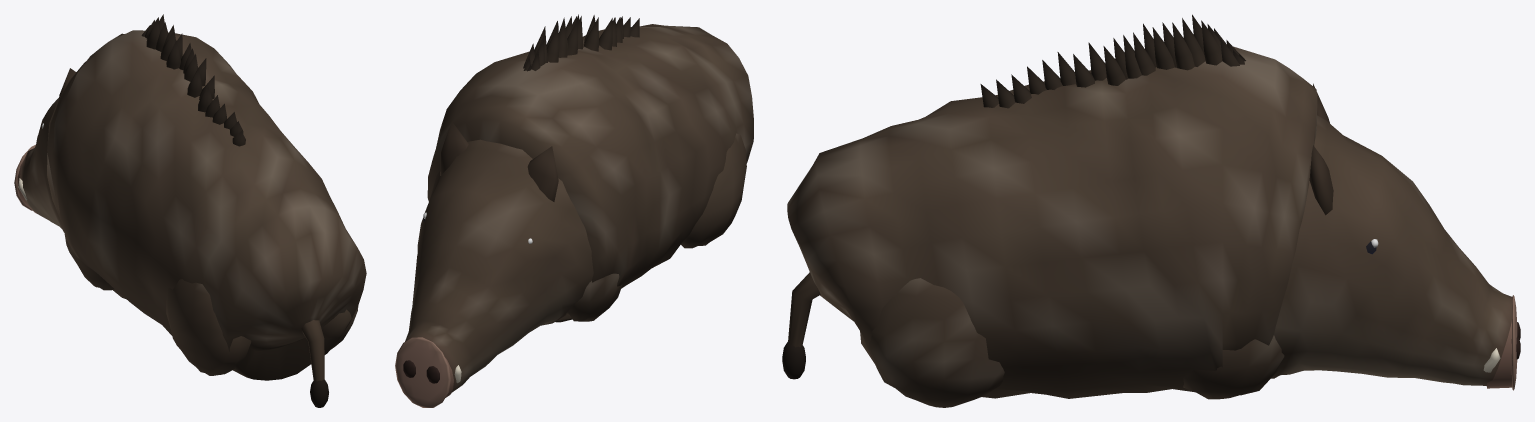
Rendered from Inoshishi.fbx.
3 views of the same model, side by side, from view 1: azimuth 30°, elevation 25°; view 2: azimuth 150°, elevation 25°; view 3: azimuth 270°, elevation 25° (orthographic). The views are drawn at different scales.
Visible parts, largest first — view 1: Inoshishi; view 2: Inoshishi; view 3: Inoshishi.
Boxes of the visible parts, <box> form: Inoshishi: <box>14,14,366,407</box>; Inoshishi: <box>395,14,753,407</box>; Inoshishi: <box>782,14,1520,407</box>.
Bounding box in the file's own units: 20.73 × 29.33 × 53.08.
